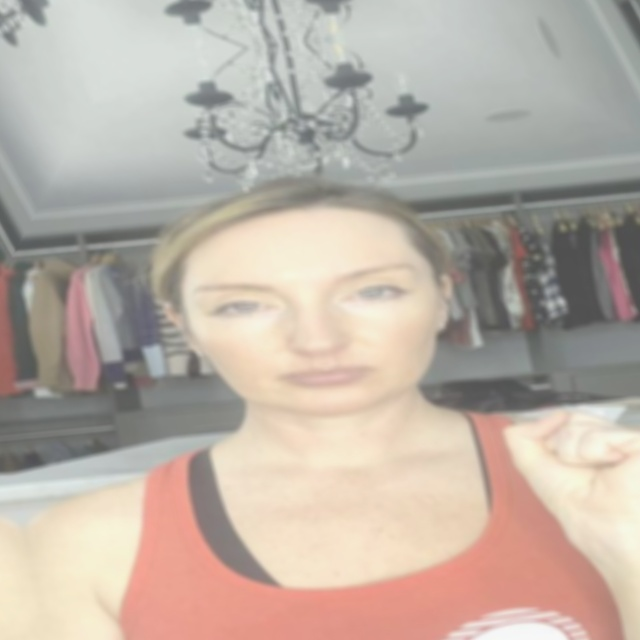Rock: (449, 327, 640, 613)
